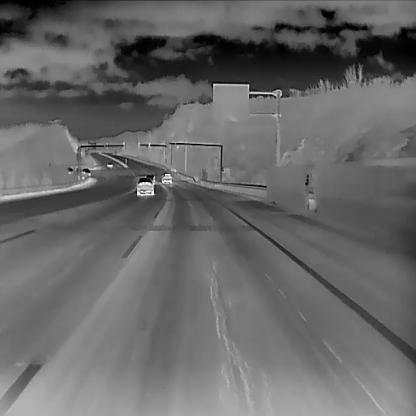car: (136, 176, 154, 195), (160, 171, 172, 184), (143, 173, 155, 185), (80, 167, 91, 177), (106, 161, 112, 167)
